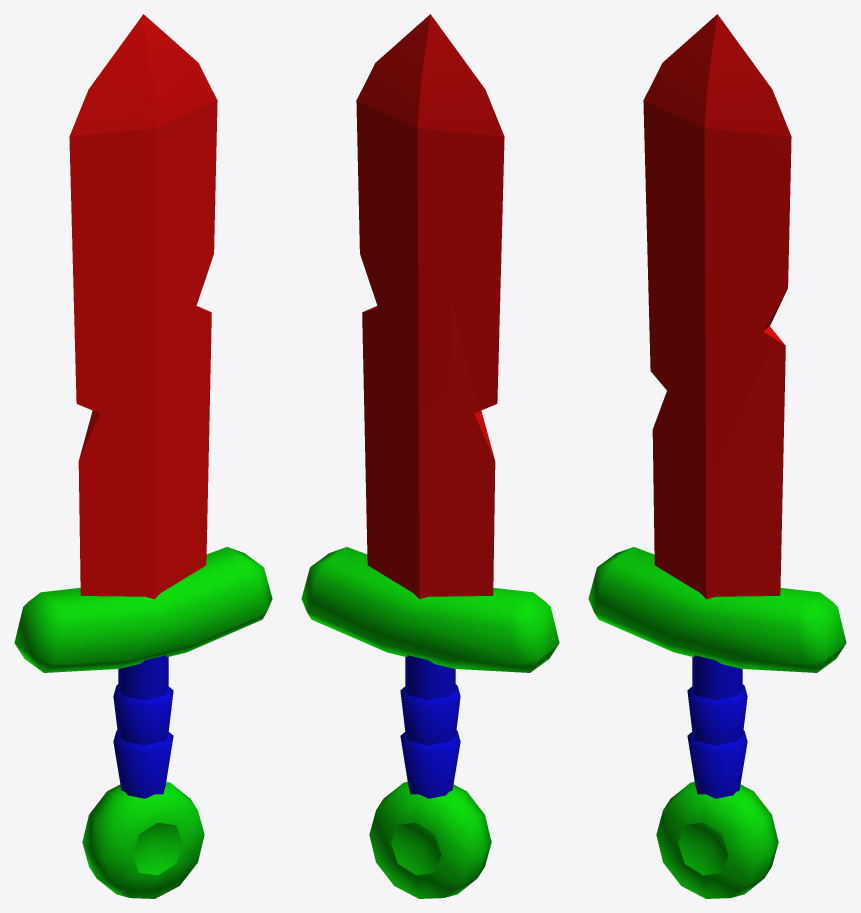
File: Sword.fbx
3 views of the same model, side by side, from view 1: azimuth 30°, elevation 25°; view 2: azimuth 150°, elevation 25°; view 3: azimuth 330°, elevation 25° (orthographic).
Parts seen in each view (by area): view 1: Sword; view 2: Sword; view 3: Sword.
Part boxes in pixels (x1,y1,x2,y2): Sword: [14, 14, 272, 898]; Sword: [301, 14, 559, 898]; Sword: [588, 14, 846, 898].
Bounding box in the file's own units: 36.25 × 9.41 × 128.
